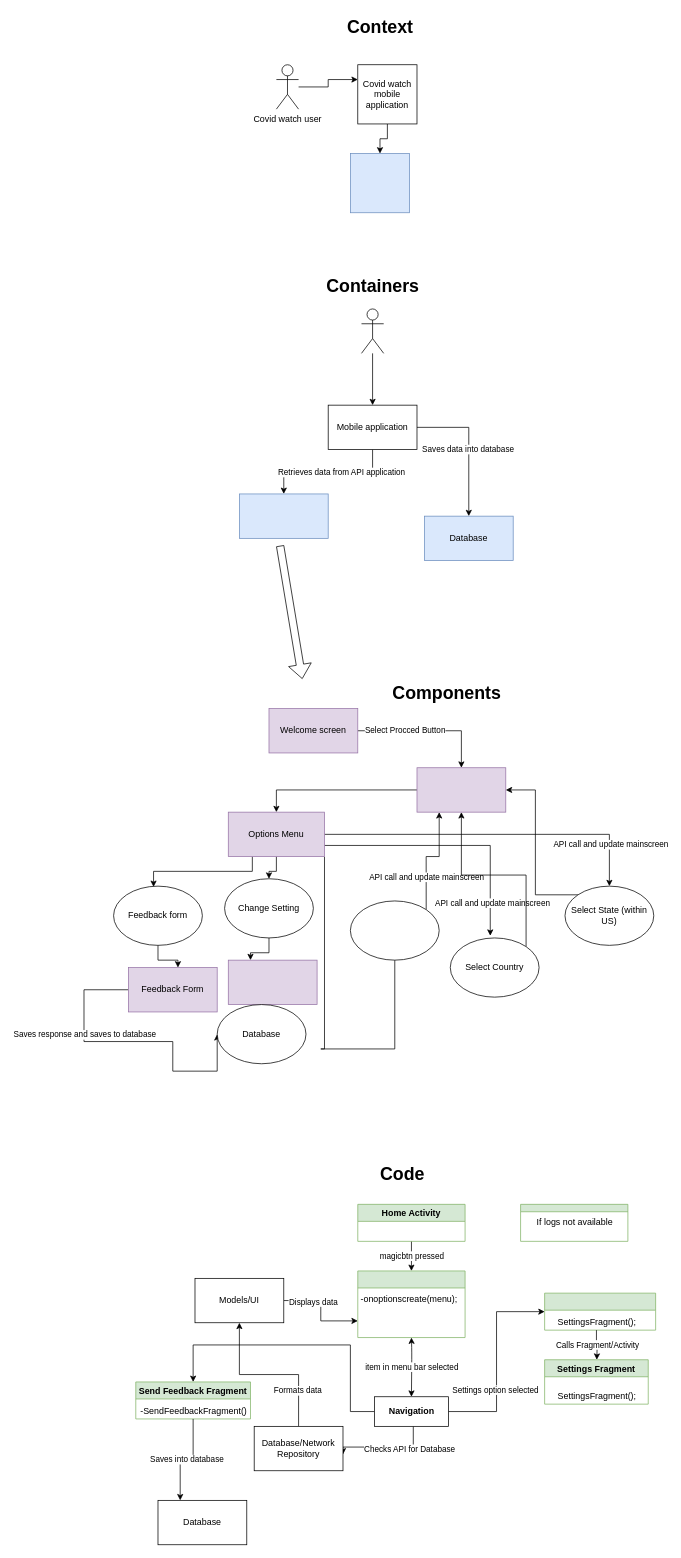
Image size: 681x1558. Some labels were removed from this diagram. Here are the shapes that lost their labels. From the top down, the box of each, then its label:
(350, 153, 410, 213): World data representation system
(361, 308, 384, 353): Actor
(239, 493, 328, 538): API application
(416, 767, 506, 812): Mainscreen
(350, 900, 439, 960): World data
(228, 959, 317, 1005): Settings Page
(520, 1204, 628, 1241): Logs Util
(357, 1270, 465, 1338): Main Activity
(544, 1292, 656, 1330): Settings Activity
